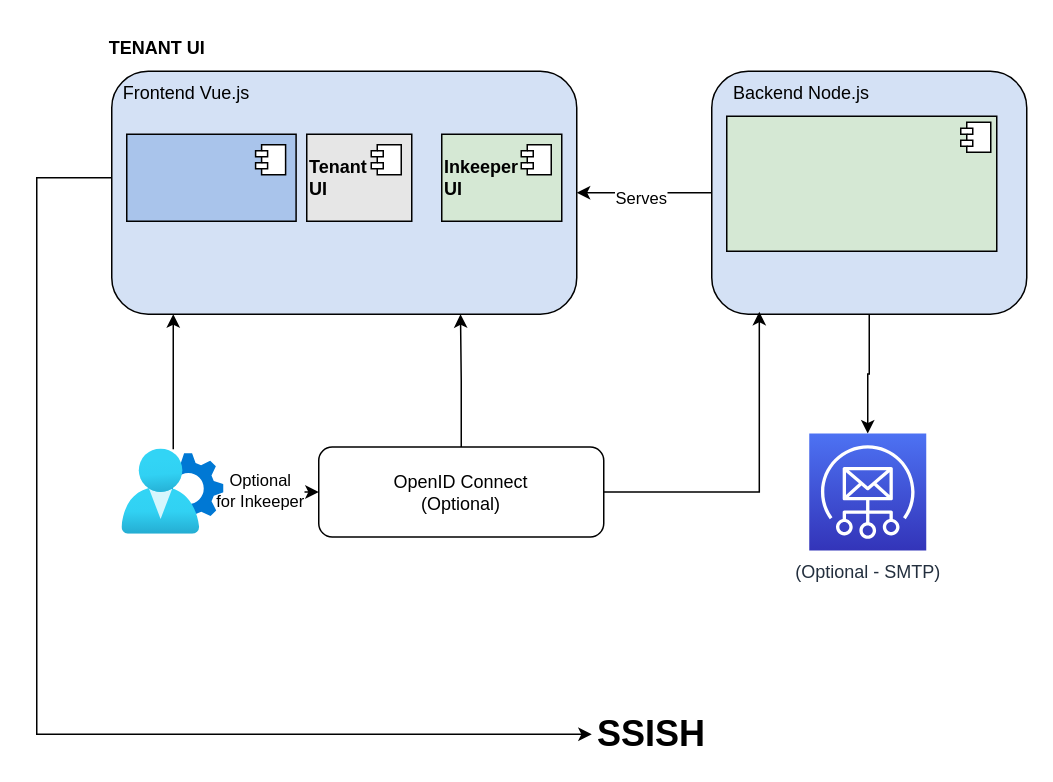
Some shapes in this 1053 by 782 pixel diagram are drawn without their labels. The shapes that lost their labels are listed below. From the top down, each one's centre as x and y in pixels, then its label:
At (210,177): "Public Sign-up".
At (861,183): "Inkeeper KEY OIDC Login".
